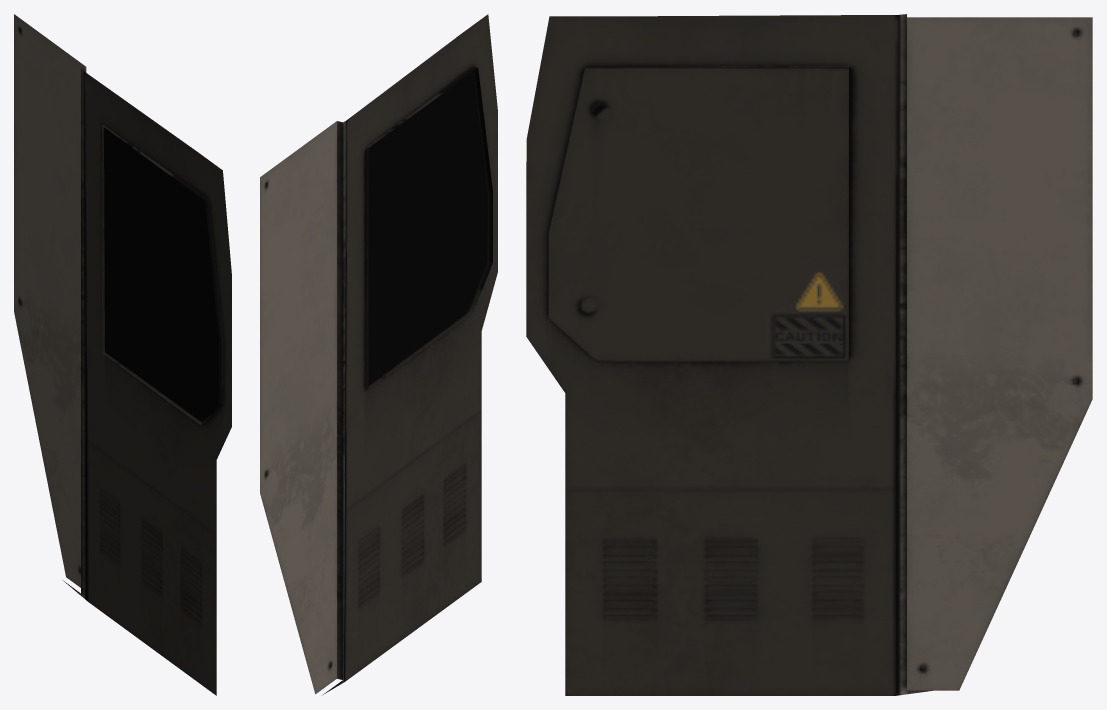
File: right.gltf
The picture shows the model from 3 angles, left to right: view 1: azimuth 30°, elevation 25°; view 2: azimuth 150°, elevation 25°; view 3: azimuth 270°, elevation 25°; orthographic projection. The views are drawn at different scales.
Parts seen in each view (by area): view 1: RIGHT; view 2: RIGHT; view 3: RIGHT.
Boxes of the visible parts, x1,y1,x2,y2 form: RIGHT: (14, 14, 231, 695); RIGHT: (260, 14, 497, 694); RIGHT: (526, 14, 1092, 695).
Bounding box in the file's own units: 0.0286 × 1.7 × 1.28.
1 material, 1 textured.
